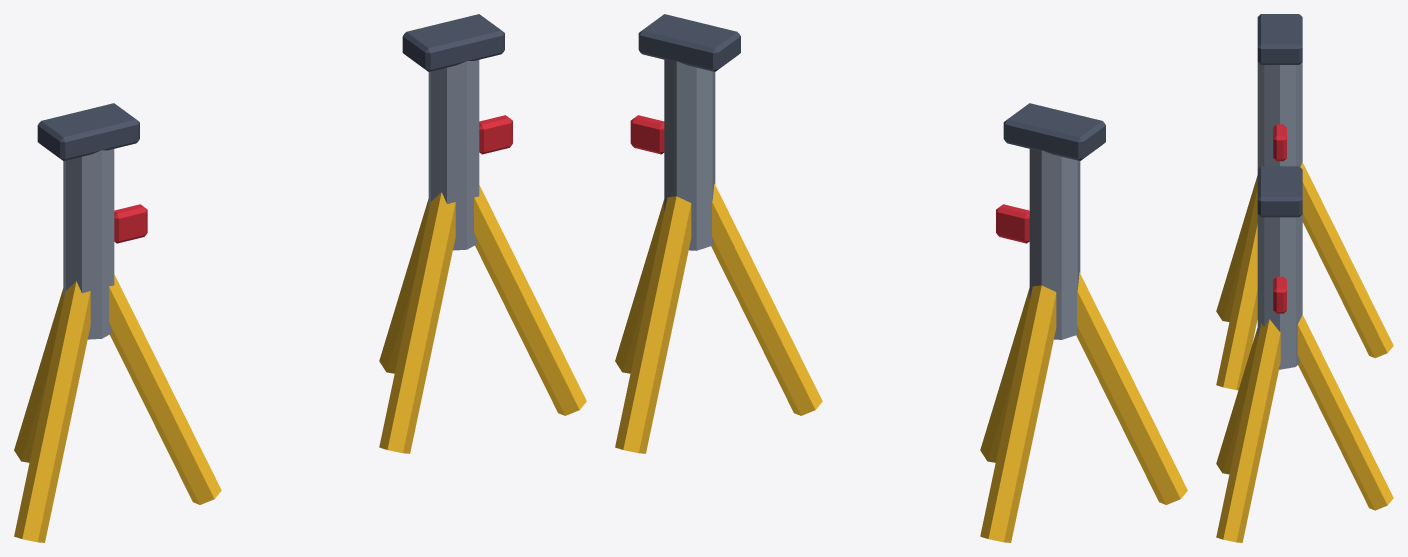
Rendered from JackStands.fbx.
3 views of the same model, side by side, from view 1: azimuth 30°, elevation 25°; view 2: azimuth 150°, elevation 25°; view 3: azimuth 270°, elevation 25° (orthographic). The views are drawn at different scales.
Parts seen in each view (by area): view 1: JackStands; view 2: JackStands; view 3: JackStands.
Boxes of the visible parts, box(x1,y1,x2,y2) form: JackStands: box(14, 14, 586, 542); JackStands: box(615, 14, 1187, 542); JackStands: box(1216, 14, 1393, 542).
Size of the model in its own units: 4.96 by 3.2 by 1.58.
Materials: 1 (1 with a texture image).
